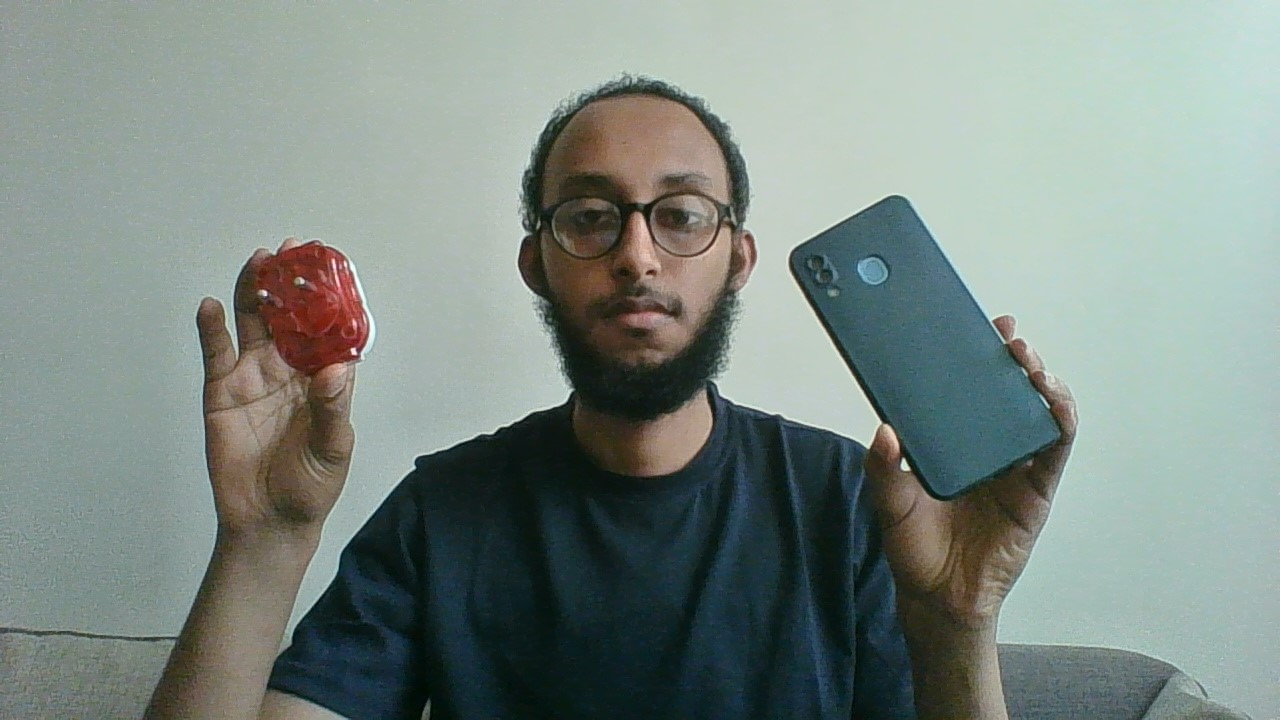Multi_adapter: (246, 238, 378, 379)
Smart_phone: (782, 189, 1071, 505)
